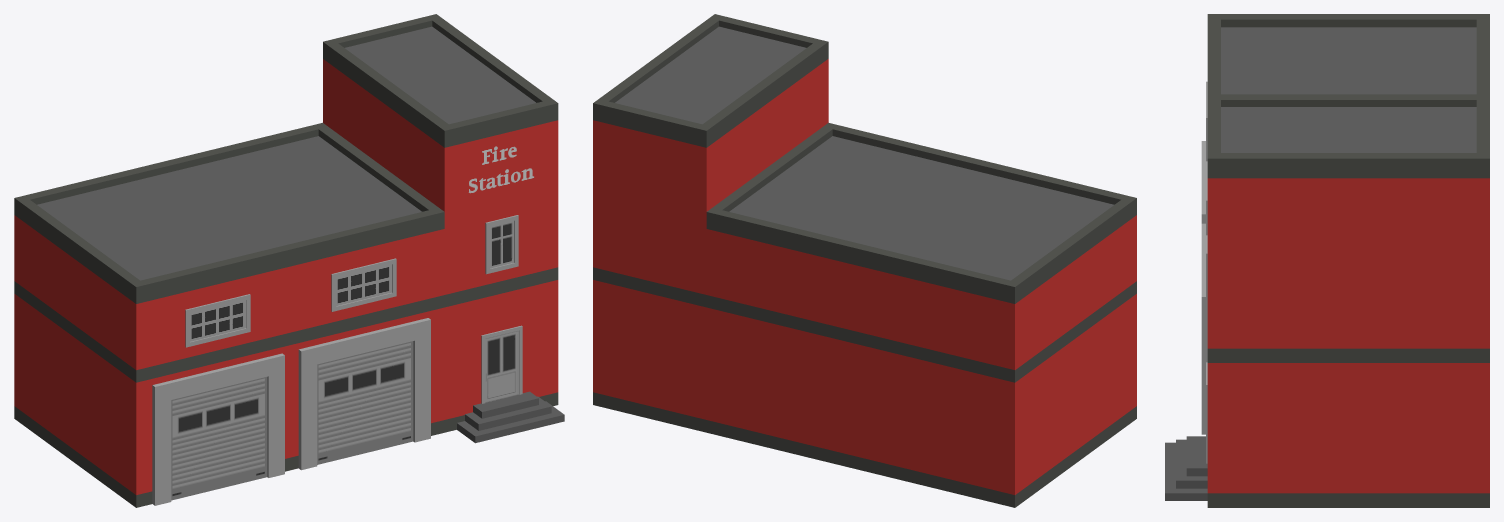
Rendered from spb-fire-station.glb.
3 views of the same model, side by side, from view 1: azimuth 30°, elevation 25°; view 2: azimuth 150°, elevation 25°; view 3: azimuth 270°, elevation 25° (orthographic). The views are drawn at different scales.
Visible parts, largest first — view 1: SPB_Fire Station; view 2: SPB_Fire Station; view 3: SPB_Fire Station.
Part boxes in pixels (x1,y1,x2,y2): SPB_Fire Station: (14,14,564,507); SPB_Fire Station: (593,14,1136,507); SPB_Fire Station: (1165,14,1489,507).
Bounding box in the file's own units: 22.1 × 15.1 × 12.72.
1 material, 1 textured.
